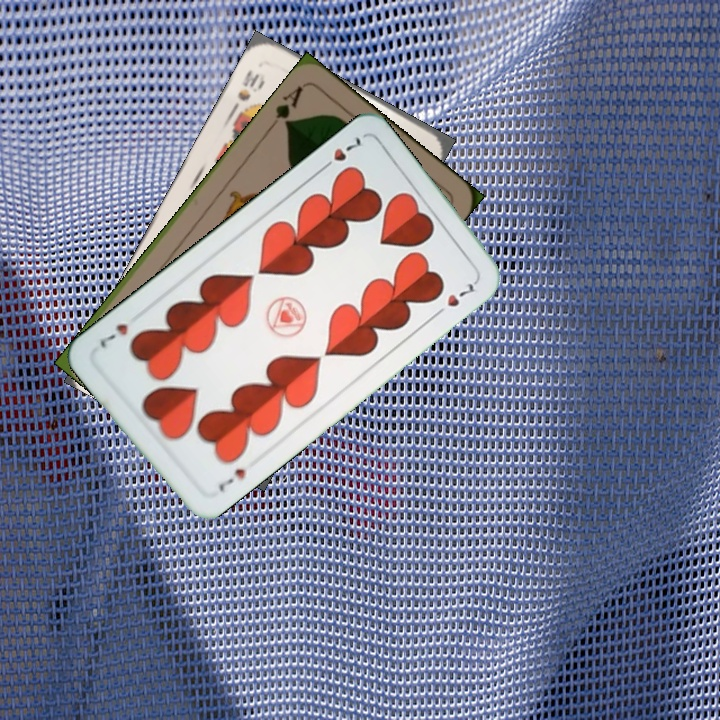GA: (265, 81, 306, 131)
H7: (316, 132, 367, 174), (214, 464, 250, 495)
S10: (227, 65, 263, 115)
